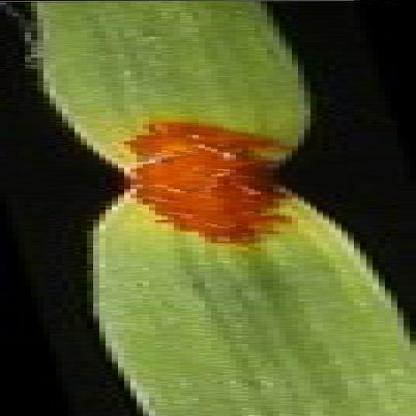wheat Stem Rust: (138, 123, 299, 161), (183, 201, 296, 240), (130, 166, 246, 196)
